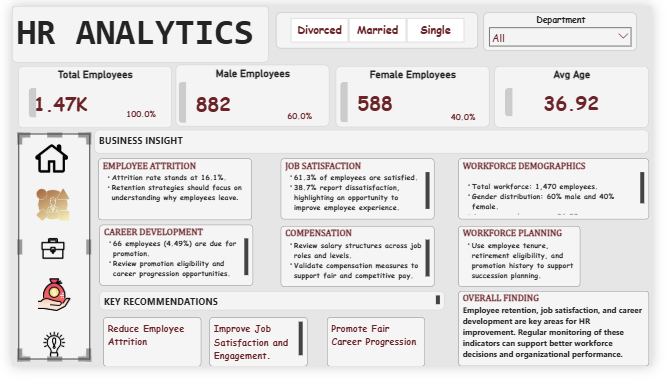

What the dashboard file says about the page in this screenshot:
{"tool":"powerbi","page":{"name":"Business Insight and Key Findings","canvas":[1280,720],"ordinal":4},"visuals":[{"type":"textbox","box":[0,0,513.8,112.5],"z":0},{"type":"image","box":[37.7,452.6,88.9,64.6],"z":0,"group":"g1"},{"type":"slicer","fields":{"Values":["HR Analytics Data.MaritalStatus"]},"box":[526.2,12.5,405,72.5],"z":1000},{"type":"image","box":[37.7,452.6,88.9,64.6],"z":1000,"group":"g1"},{"type":"slicer","title":"Department","fields":{"Values":["HR Analytics Data.Department"]},"box":[941.2,12.5,307.5,77.5],"z":2000},{"type":"image","box":[37.7,363.7,88.9,64.6],"z":2000,"group":"g1"},{"type":"cardVisual","title":"Total Employees","fields":{"Data":["Table.total employee","measure cal.% total worker"]},"box":[12.4,119.7,307.1,124.2],"z":3000},{"type":"image","box":[37.7,363.7,88.9,64.6],"z":3000,"group":"g1"},{"type":"cardVisual","title":"Male Employees","fields":{"Data":["Table.male","measure cal.% male employees"]},"box":[327.5,118.6,307.1,123.1],"z":4000},{"type":"image","box":[40.4,643.8,88.9,64.6],"z":4000,"group":"g1"},{"type":"cardVisual","title":"Female Employees","fields":{"Data":["Table.Female","measure cal.% female emp"]},"box":[647.5,119,307,122.5],"z":5000},{"type":"image","box":[40.4,643.8,88.9,64.6],"z":5000,"group":"g1"},{"type":"cardVisual","title":"Avg Age","fields":{"Data":["measure cal.Avg Age"]},"box":[965.4,119.7,308.3,123.1],"z":6000},{"type":"image","box":[40.4,544.2,88.9,64.6],"z":6000,"group":"g1"},{"type":"image","box":[40.4,544.2,88.9,64.6],"z":7000,"group":"g1"},{"type":"textbox","box":[165.7,248.6,1108.6,47.1],"z":8000},{"type":"image","box":[35,272.1,88.9,64.6],"z":8000,"group":"g1"},{"type":"image","box":[35,272.1,88.9,64.6],"z":9000,"group":"g1"},{"type":"textbox","title":"EMPLOYEE ATTRITION","box":[172.9,305.7,307.1,122.9],"z":9000},{"type":"textbox","title":"JOB SATISFACTION","box":[537.1,304.3,307.1,121.4],"z":10000},{"type":"textbox","title":"WORKFORCE DEMOGRAPHICS","box":[892.9,304.3,381.4,121.4],"z":11000},{"type":"textbox","title":"CAREER DEVELOPMENT","box":[174.3,438.6,307.1,121.4],"z":12000},{"type":"textbox","title":"COMPENSATION","box":[537.1,440,307.1,121.4],"z":13000},{"type":"shape","box":[12.4,255.2,143.4,451.7],"z":14000,"group":"g2"},{"type":"textbox","title":"WORKFORCE PLANNING","box":[892.9,440,244.3,121.4],"z":14000},{"type":"textbox","title":"OVERALL FINDING","box":[892.9,570,381.4,150],"z":15000},{"type":"textbox","box":[174.3,570,690,38.6],"z":16000},{"type":"textbox","box":[181.4,621.4,195.7,98.6],"z":17000},{"type":"group","id":"g1","title":"Group 2","box":[35,272.1,94.3,436.4],"z":17002,"group":"g2"},{"type":"textbox","box":[395.7,621.4,195.7,98.6],"z":18000},{"type":"textbox","box":[630,621.4,195.7,98.6],"z":19000},{"type":"group","id":"g2","title":"Group 1","box":[12.4,255.2,143.4,453.2],"z":19001}]}

Visuals, with their boxes in screenshot pixels (x1, y1, x2, y2), scaled from the page's 1280x720 canvas onto the 667x380 screenshot:
textbox: x1=0 y1=0 x2=268 y2=59
image: x1=20 y1=239 x2=66 y2=273
slicer - HR Analytics Data.MaritalStatus: x1=274 y1=7 x2=485 y2=45
image: x1=20 y1=239 x2=66 y2=273
"Department" slicer: x1=490 y1=7 x2=651 y2=48
image: x1=20 y1=192 x2=66 y2=226
"Total Employees" cardVisual: x1=6 y1=63 x2=166 y2=129
image: x1=20 y1=192 x2=66 y2=226
"Male Employees" cardVisual: x1=171 y1=63 x2=331 y2=128
image: x1=21 y1=340 x2=67 y2=374
"Female Employees" cardVisual: x1=337 y1=63 x2=497 y2=127
image: x1=21 y1=340 x2=67 y2=374
"Avg Age" cardVisual: x1=503 y1=63 x2=664 y2=128
image: x1=21 y1=287 x2=67 y2=321
image: x1=21 y1=287 x2=67 y2=321
textbox: x1=86 y1=131 x2=664 y2=156
image: x1=18 y1=144 x2=65 y2=178
image: x1=18 y1=144 x2=65 y2=178
"EMPLOYEE ATTRITION" textbox: x1=90 y1=161 x2=250 y2=226
"JOB SATISFACTION" textbox: x1=280 y1=161 x2=440 y2=225
"WORKFORCE DEMOGRAPHICS" textbox: x1=465 y1=161 x2=664 y2=225
"CAREER DEVELOPMENT" textbox: x1=91 y1=231 x2=251 y2=296
"COMPENSATION" textbox: x1=280 y1=232 x2=440 y2=296
shape: x1=6 y1=135 x2=81 y2=373
"WORKFORCE PLANNING" textbox: x1=465 y1=232 x2=593 y2=296
"OVERALL FINDING" textbox: x1=465 y1=301 x2=664 y2=379
textbox: x1=91 y1=301 x2=450 y2=321
textbox: x1=95 y1=328 x2=197 y2=379
"Group 2" group: x1=18 y1=144 x2=67 y2=374
textbox: x1=206 y1=328 x2=308 y2=379
textbox: x1=328 y1=328 x2=430 y2=379
"Group 1" group: x1=6 y1=135 x2=81 y2=374
